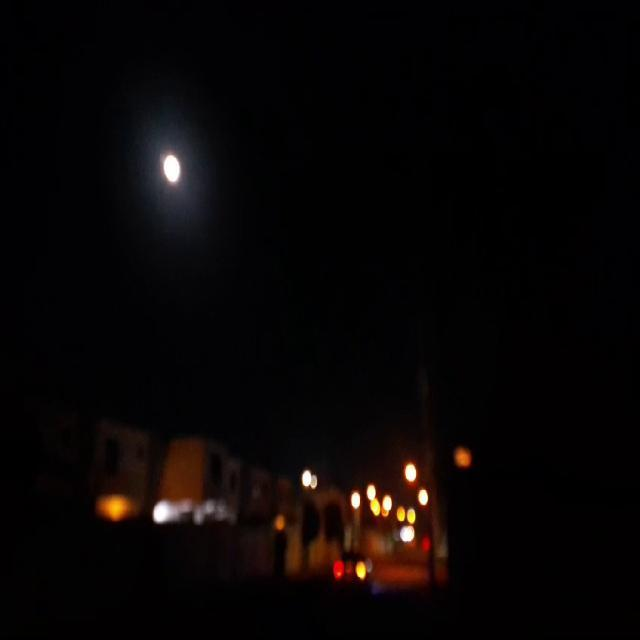moon: (160, 147, 180, 181)
